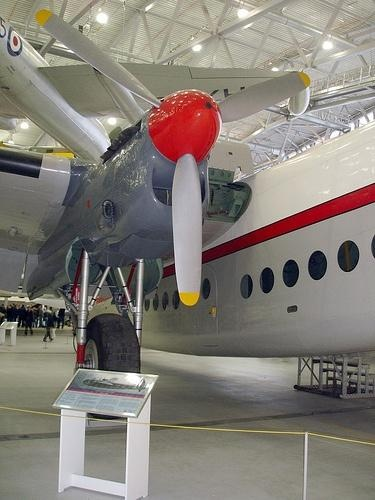aeroplane: (2, 11, 374, 421)
